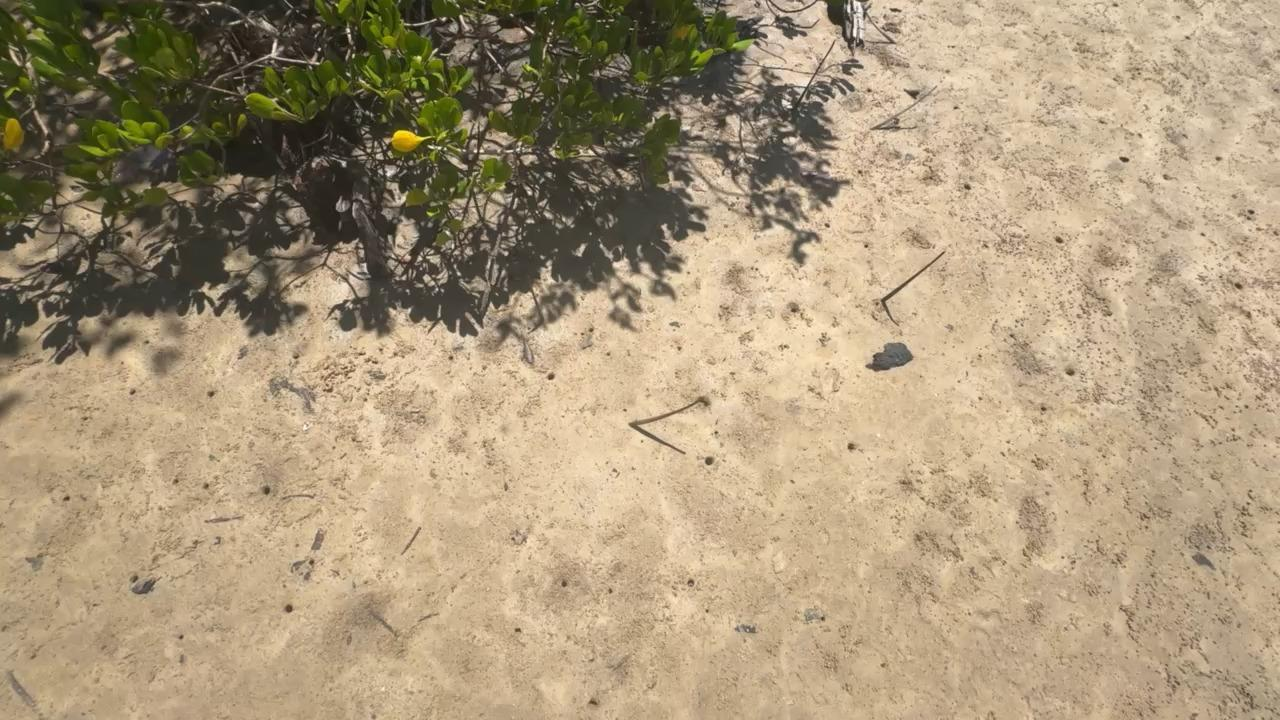Tree: (790, 39, 835, 116), (882, 249, 946, 302), (869, 84, 939, 130), (629, 396, 701, 431)
